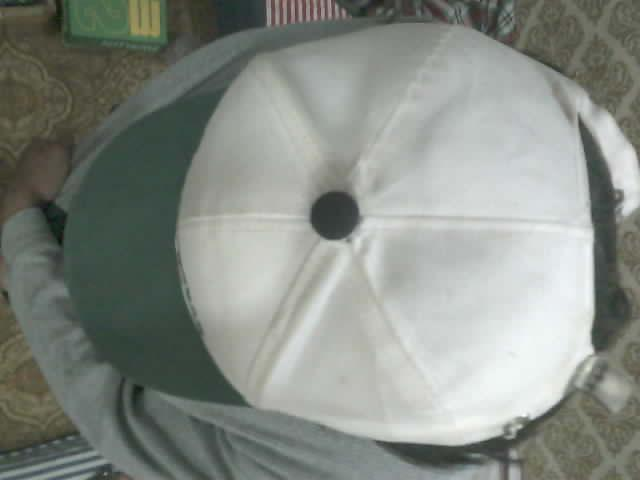cap: (49, 20, 640, 448)
